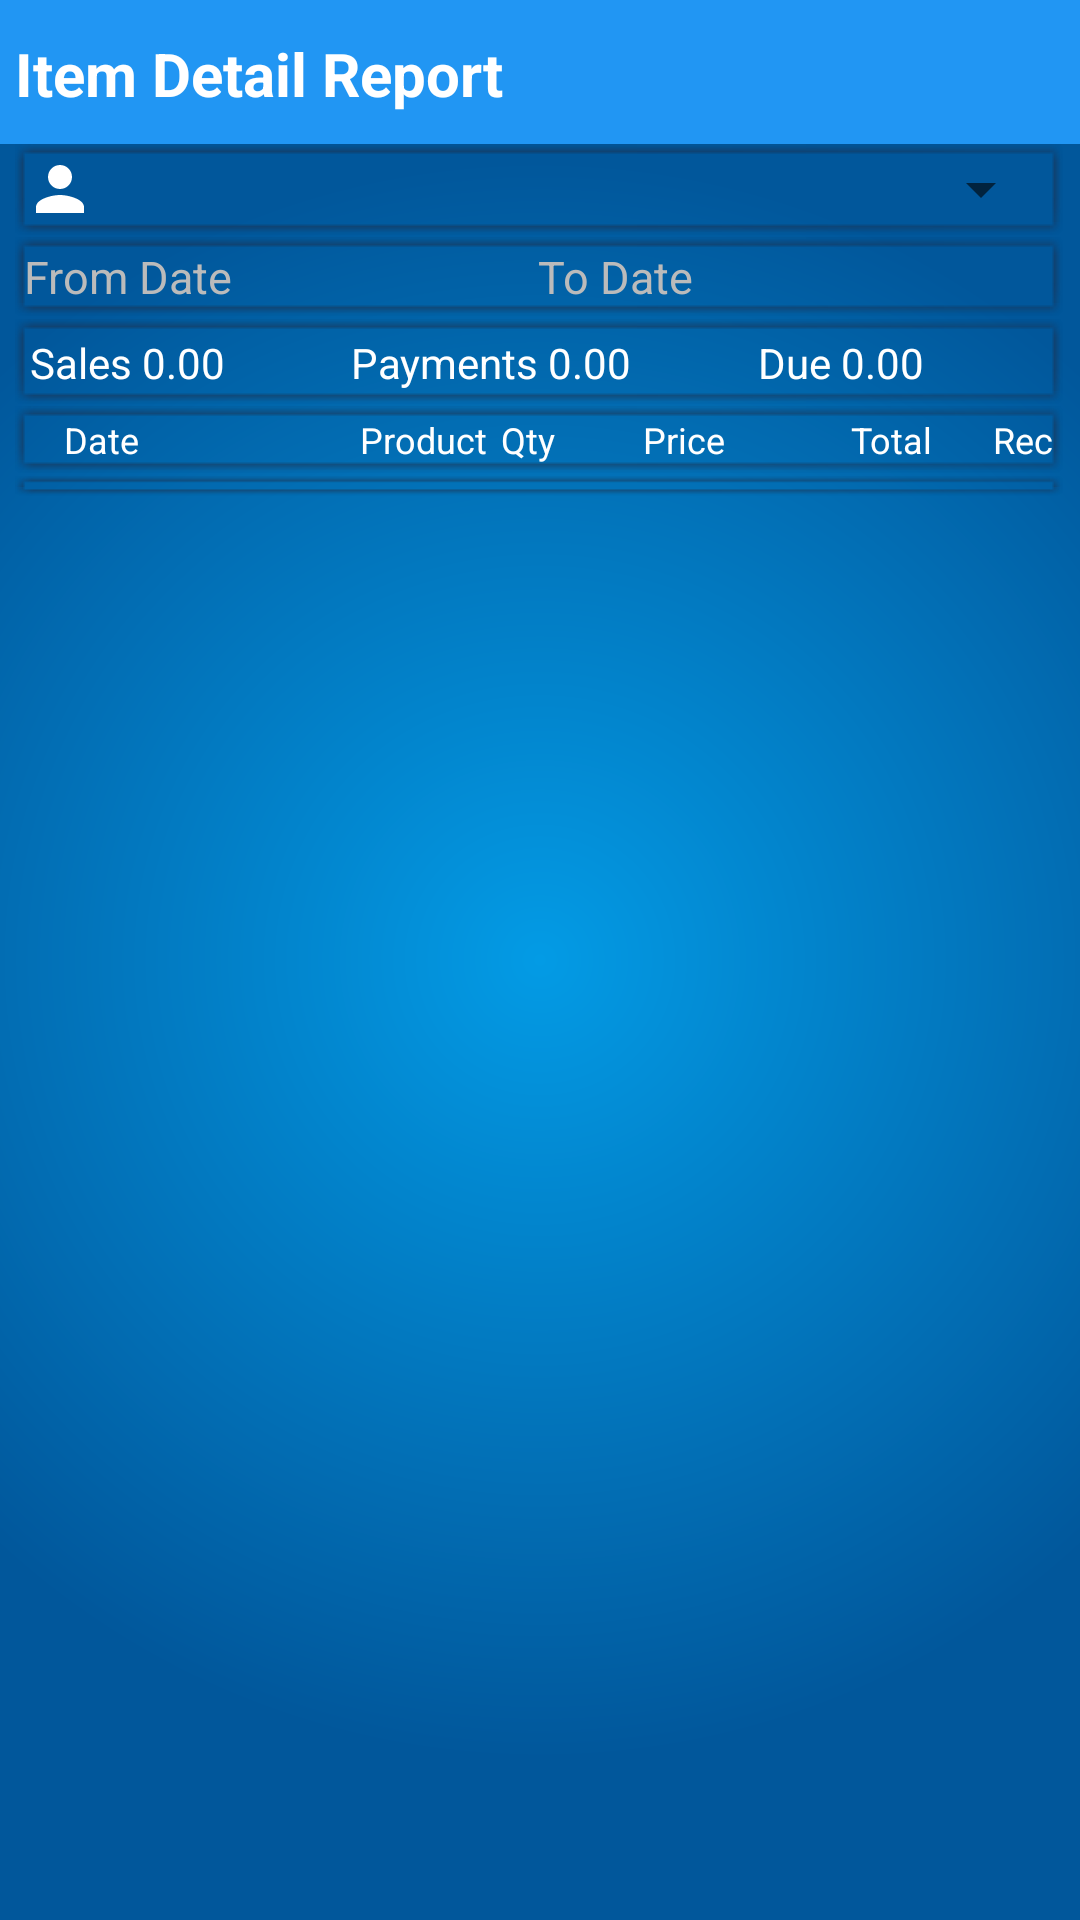

Icons on this 1080×1920 Android screen, each with the point to tap as point (x, y):
person: point (60, 189)
